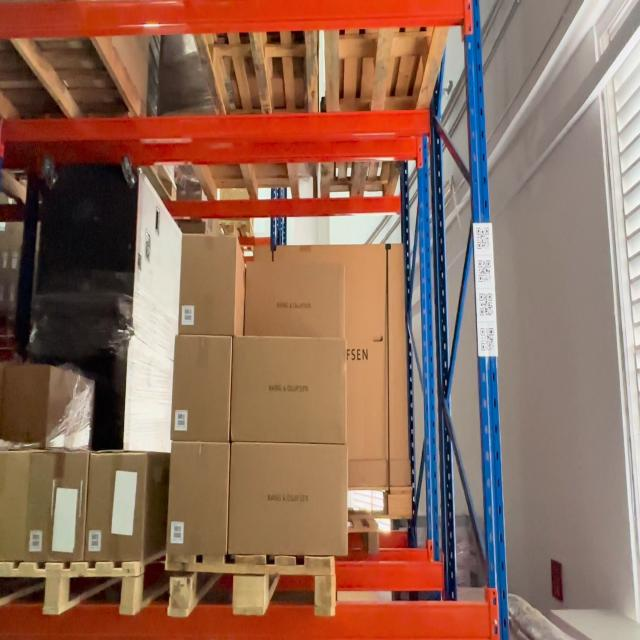box: (230, 448, 347, 552), (232, 339, 344, 444), (245, 268, 343, 338), (167, 446, 228, 556), (84, 455, 144, 561), (173, 338, 229, 439), (178, 238, 235, 337)
